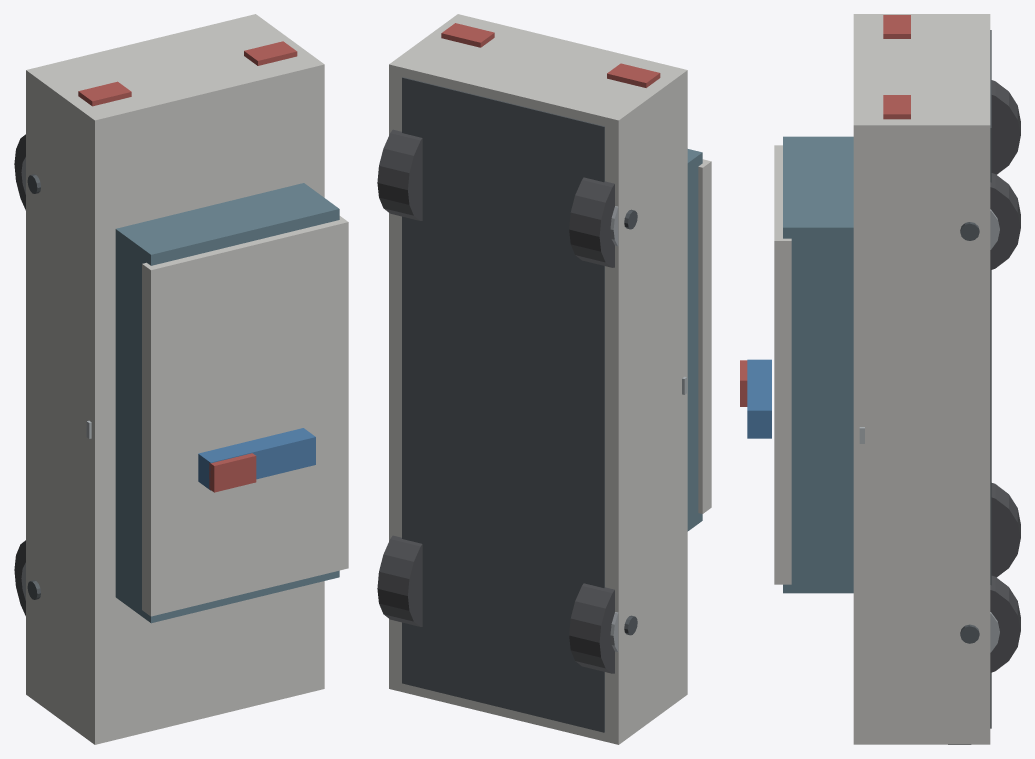
Rendered from police_patrol.glb.
3 renders of one model, left to right at view 1: azimuth 30°, elevation 25°; view 2: azimuth 150°, elevation 25°; view 3: azimuth 270°, elevation 25°, orthographic.
Parts seen in each view (by area): view 1: 0000_Car_body, 0003_Roof, 0002_Cabin_glass, 0024_Emergency_lightbar, 0025_Emergency_light_red, 0009_Tail_lamp, 0007_Tail_lamp; view 2: 0001_Chassis_black, 0000_Car_body, 0003_Roof, 0002_Cabin_glass, 0015_Wheel_tire, 0021_Wheel_tire, 0018_Wheel_tire, 0012_Wheel_tire, 0007_Tail_lamp, 0009_Tail_lamp; view 3: 0000_Car_body, 0002_Cabin_glass, 0003_Roof, 0018_Wheel_tire, 0012_Wheel_tire, 0015_Wheel_tire, 0021_Wheel_tire, 0024_Emergency_lightbar, 0001_Chassis_black, 0009_Tail_lamp, 0007_Tail_lamp.
Part boxes in pixels (x1,y1,x2,y2): 0000_Car_body: (26,14,324,744); 0003_Roof: (142,216,348,616); 0002_Cabin_glass: (115,183,339,623); 0024_Emergency_lightbar: (198,428,315,490); 0025_Emergency_light_red: (209,453,256,492); 0009_Tail_lamp: (244,41,297,65); 0007_Tail_lamp: (78,81,131,106); 0001_Chassis_black: (402,77,604,732); 0000_Car_body: (389,14,687,744); 0003_Roof: (698,159,711,513); 0002_Cabin_glass: (687,149,702,531); 0015_Wheel_tire: (377,535,422,626); 0021_Wheel_tire: (377,129,422,220); 0018_Wheel_tire: (569,177,614,267); 0012_Wheel_tire: (569,583,614,673); 0007_Tail_lamp: (607,63,660,87); 0009_Tail_lamp: (441,23,494,47); 0000_Car_body: (853,14,990,744); 0002_Cabin_glass: (783,136,853,593); 0003_Roof: (774,145,791,584); 0018_Wheel_tire: (991,80,1020,174); 0012_Wheel_tire: (991,483,1020,577); 0015_Wheel_tire: (990,575,1020,672); 0021_Wheel_tire: (990,173,1020,270); 0024_Emergency_lightbar: (747,359,771,438); 0001_Chassis_black: (990,30,991,728); 0009_Tail_lamp: (883,95,910,119); 0007_Tail_lamp: (883,15,910,38).
Bounding box in the file's own units: 1.87 × 4.8 × 1.93.
